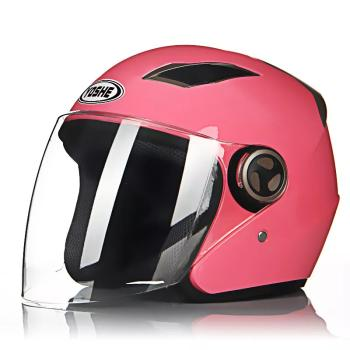with_helmet: (17, 42, 341, 317)
